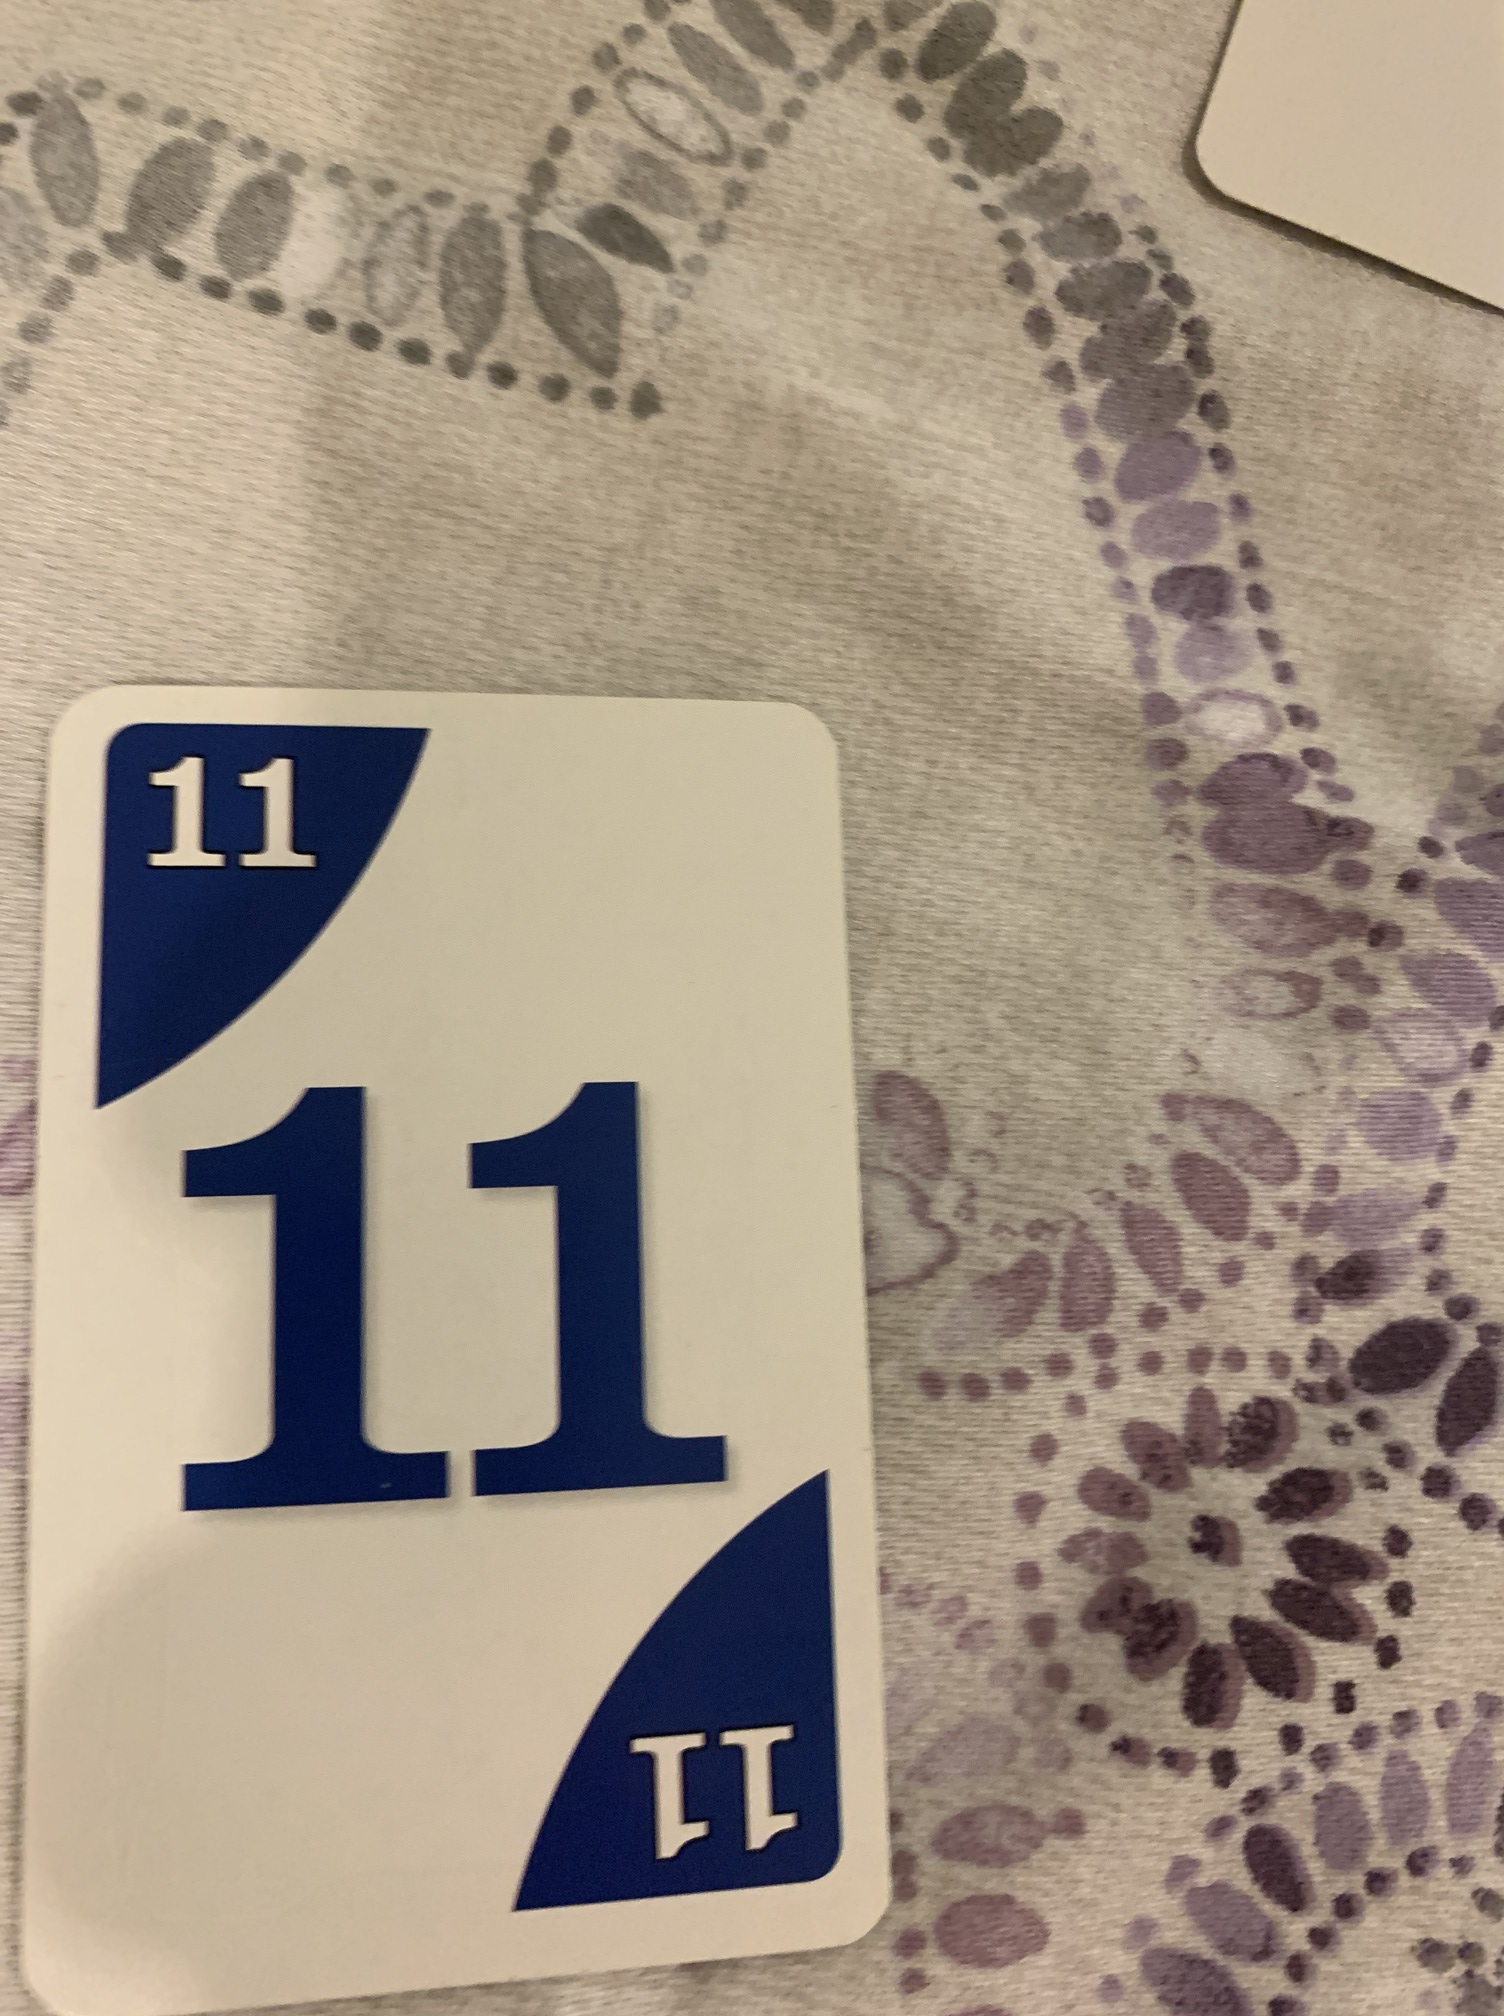eleven: (21, 683, 938, 2016)
